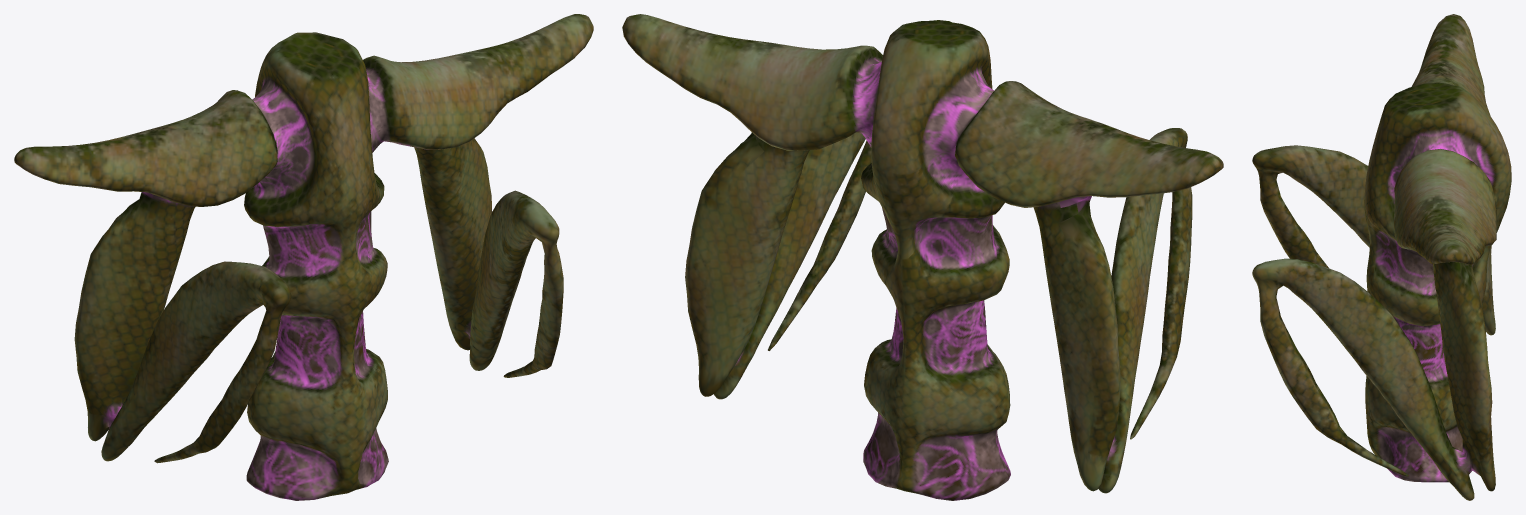
Rendered from Low_Poly_Mantis_Body_Final_01.fbx.
3 views of the same model, side by side, from view 1: azimuth 30°, elevation 25°; view 2: azimuth 150°, elevation 25°; view 3: azimuth 270°, elevation 25° (orthographic). The views are drawn at different scales.
Parts seen in each view (by area): view 1: geo_LP_Mantis_Body_03; view 2: geo_LP_Mantis_Body_03; view 3: geo_LP_Mantis_Body_03.
Part boxes in pixels (x1,y1,x2,y2): geo_LP_Mantis_Body_03: (14,14,593,500); geo_LP_Mantis_Body_03: (622,14,1223,500); geo_LP_Mantis_Body_03: (1252,14,1511,500).
Size of the model in its own units: 0.9039 by 0.6491 by 0.412.
